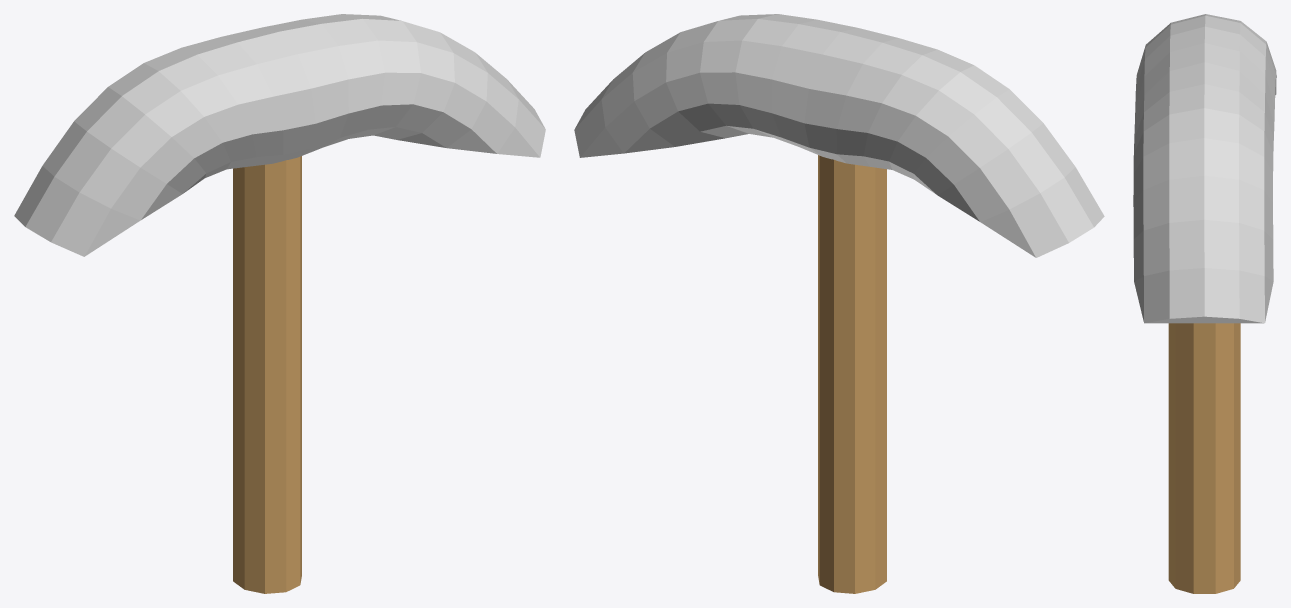
The model's file is Pickaxe.glb.
3 renders of one model, left to right at view 1: azimuth 30°, elevation 25°; view 2: azimuth 150°, elevation 25°; view 3: azimuth 270°, elevation 25°, orthographic. The views are drawn at different scales.
Parts seen in each view (by area): view 1: Torus, Cylinder; view 2: Torus, Cylinder; view 3: Torus, Cylinder.
Part boxes in pixels (<box>): Torus: <box>14,14,545,256</box>; Cylinder: <box>233,156,301,593</box>; Torus: <box>574,14,1104,257</box>; Cylinder: <box>818,155,886,593</box>; Torus: <box>1133,14,1276,323</box>; Cylinder: <box>1168,323,1240,593</box>.
Size of the model in its own units: 3.85 by 3.93 by 0.9732.
